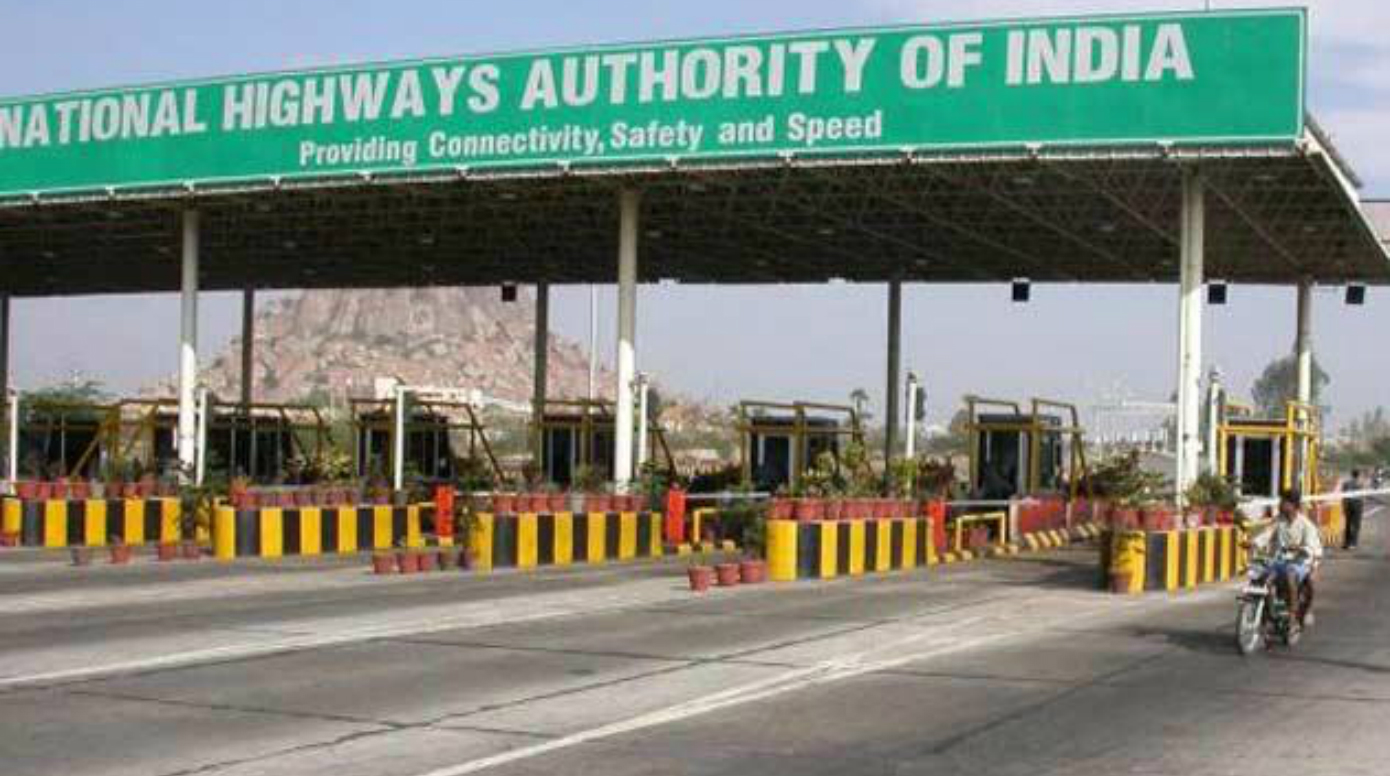toll plaza: (6, 1, 1230, 580)
